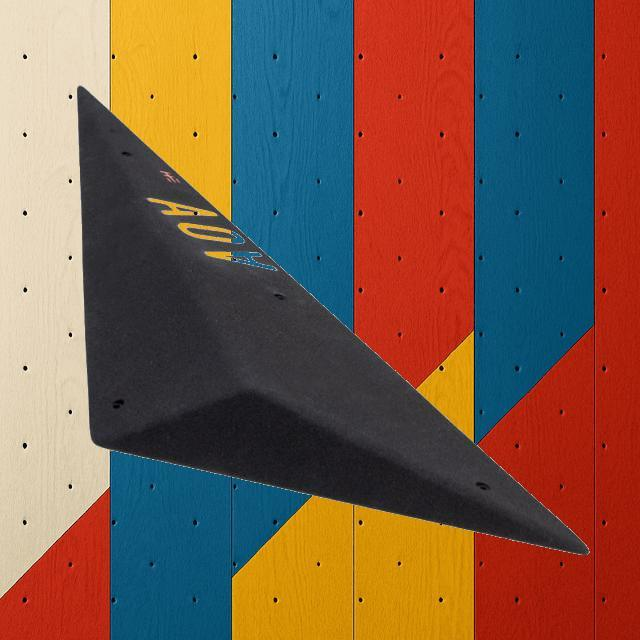Volume: (75, 84, 589, 556)
